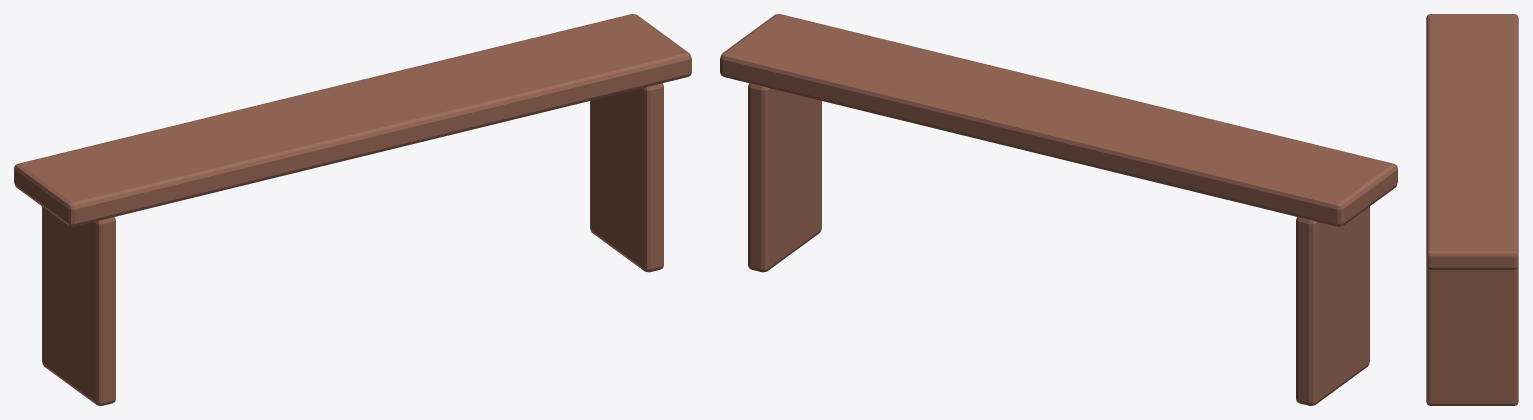
The model's file is bank.fbx.
The picture shows the model from 3 angles, left to right: view 1: azimuth 30°, elevation 25°; view 2: azimuth 150°, elevation 25°; view 3: azimuth 270°, elevation 25°; orthographic projection. The views are drawn at different scales.
Visible parts, largest first — view 1: bank; view 2: bank; view 3: bank.
Part boxes in pixels (left/top/right/bottom): bank: left=14, top=14, right=691, bottom=405; bank: left=720, top=14, right=1397, bottom=405; bank: left=1426, top=14, right=1518, bottom=405.
Bounding box in the file's own units: 0.6862 × 0.2208 × 0.1114.
